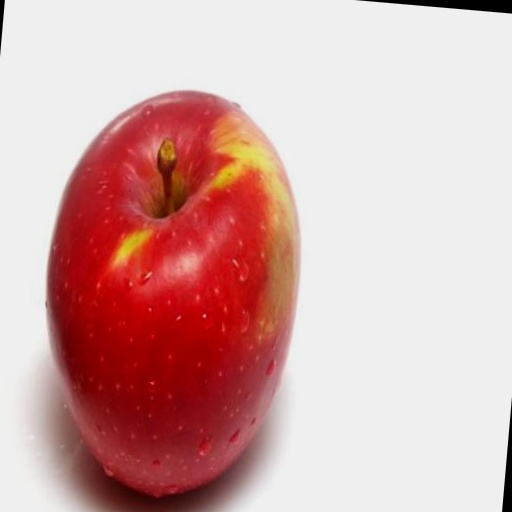fruit: (47, 91, 300, 495)
